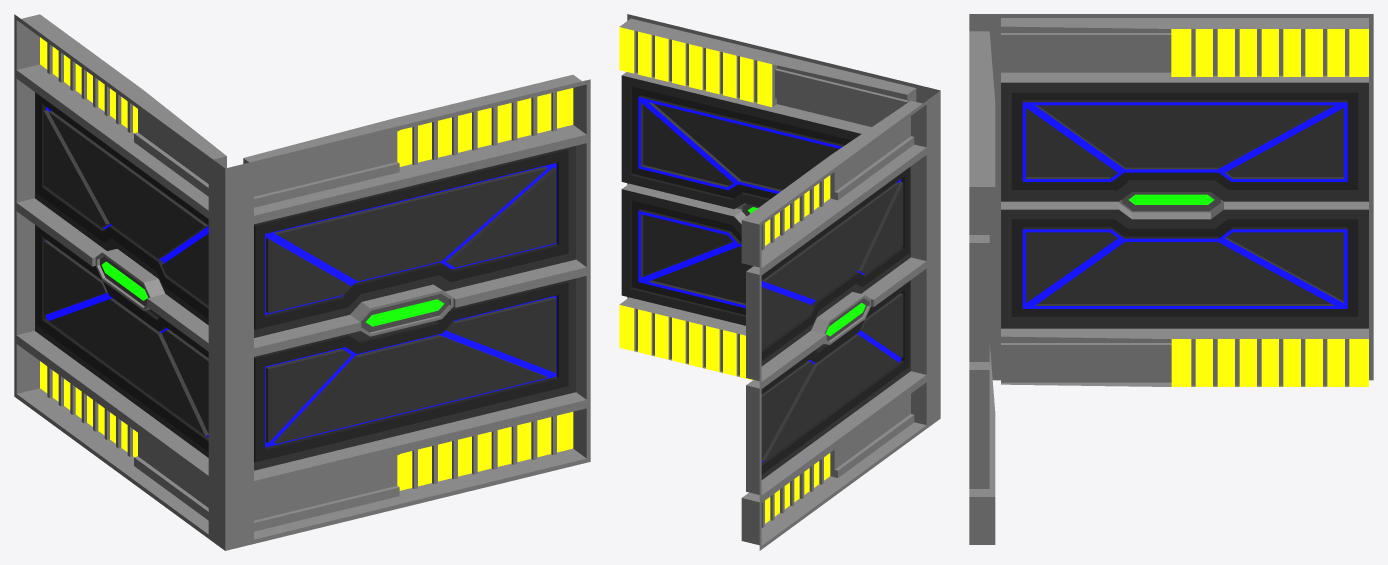
The model's file is Wall_32_Corner.FBX.
3 renders of one model, left to right at view 1: azimuth 30°, elevation 25°; view 2: azimuth 150°, elevation 25°; view 3: azimuth 270°, elevation 25°, orthographic. The views are drawn at different scales.
Parts seen in each view (by area): view 1: Wall_32_Corner_LOD0; view 2: Wall_32_Corner_LOD0; view 3: Wall_32_Corner_LOD0.
Boxes of the visible parts, bbox=[...] form: Wall_32_Corner_LOD0: bbox=[14, 14, 590, 550]; Wall_32_Corner_LOD0: bbox=[619, 14, 940, 550]; Wall_32_Corner_LOD0: bbox=[969, 14, 1373, 544].
Size of what is drawn, in the model's own units: 180 by 180 by 180.
